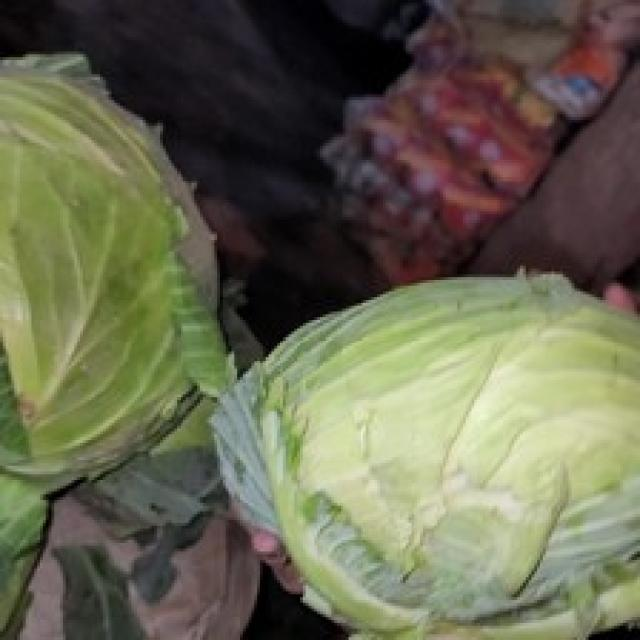organik: (208, 265, 637, 640)
